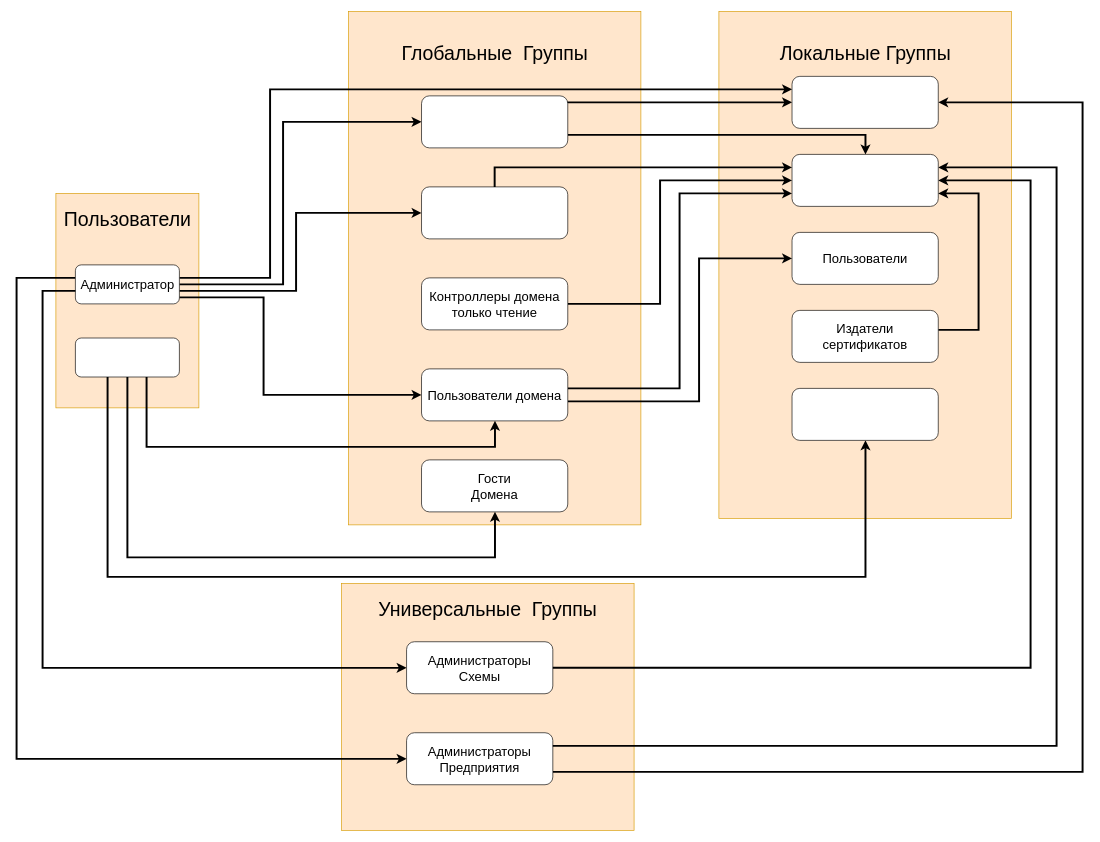
This 1100x842 diagram has some shape labels left out. Each missing label, with the centre of its shape:
Администраторы: the point at 864,102
Администраторы Домена: the point at 494,121
Владельцы-создатели групповой политики: the point at 494,212
Гости: the point at 864,414
Гость: the point at 127,357
Группа с запрещением Репликации паролей RODC: the point at 864,180
